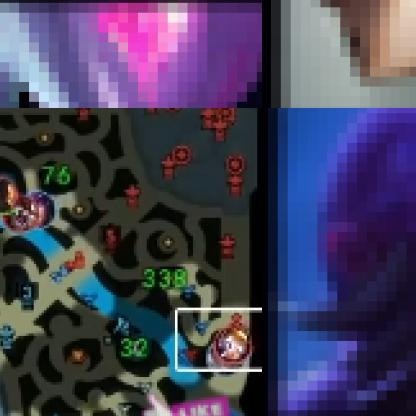Blitzcrank: (214, 326, 253, 363)
Camille: (262, 0, 415, 107)
Evelynn: (0, 0, 261, 107)
Gangplank: (0, 175, 20, 216)
Kled: (6, 196, 40, 232)
Ryze: (262, 108, 415, 415)
Syndra: (20, 189, 56, 227)
